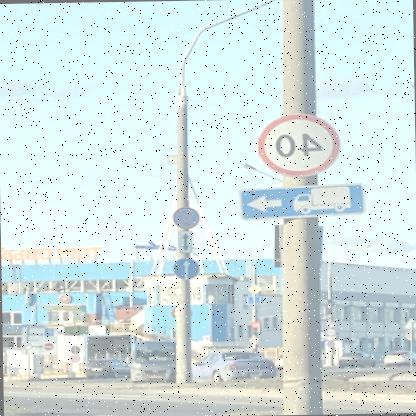speedlimit: (258, 112, 344, 176)
